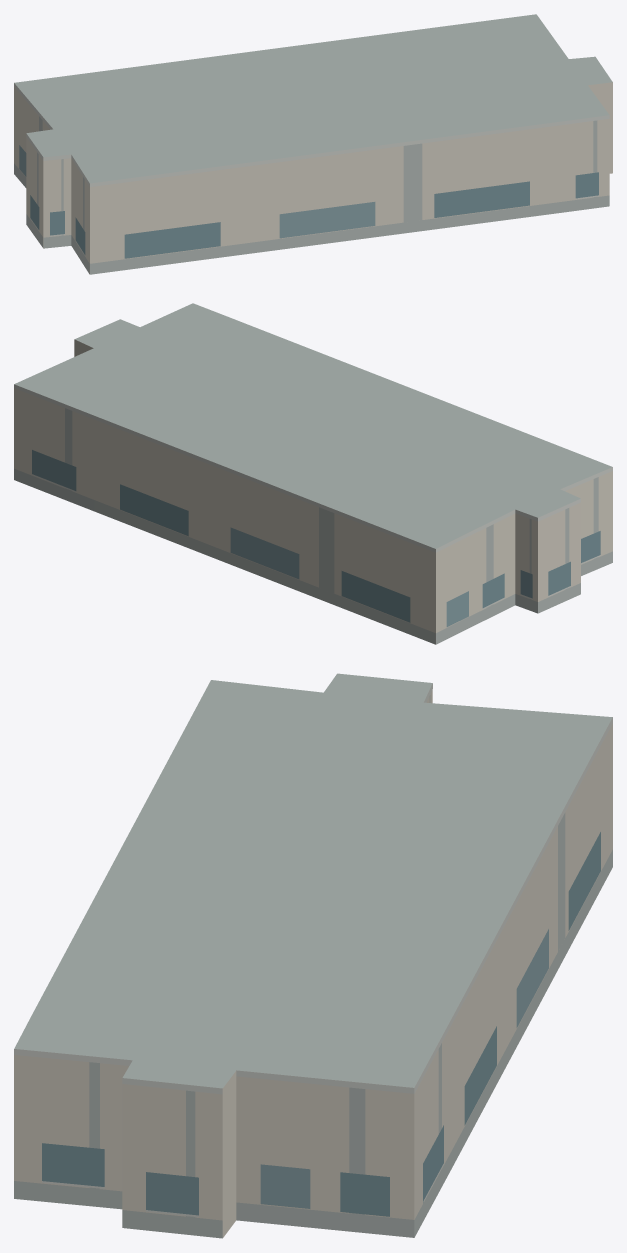
File: survey-upis-32463062.glb
3 views of the same model, one above another, from view 1: azimuth 30°, elevation 25°; view 2: azimuth 150°, elevation 25°; view 3: azimuth 270°, elevation 25° (orthographic). The views are drawn at different scales.
Visible parts, largest first — view 1: survey-upis-32463062.tmp; view 2: survey-upis-32463062.tmp; view 3: survey-upis-32463062.tmp.
Boxes of the visible parts, x1,y1,x2,y2 form: survey-upis-32463062.tmp: (14,14,612,274); survey-upis-32463062.tmp: (14,303,612,644); survey-upis-32463062.tmp: (14,673,612,1238).
Bounding box in the file's own units: 36.22 × 6.1 × 22.08.
